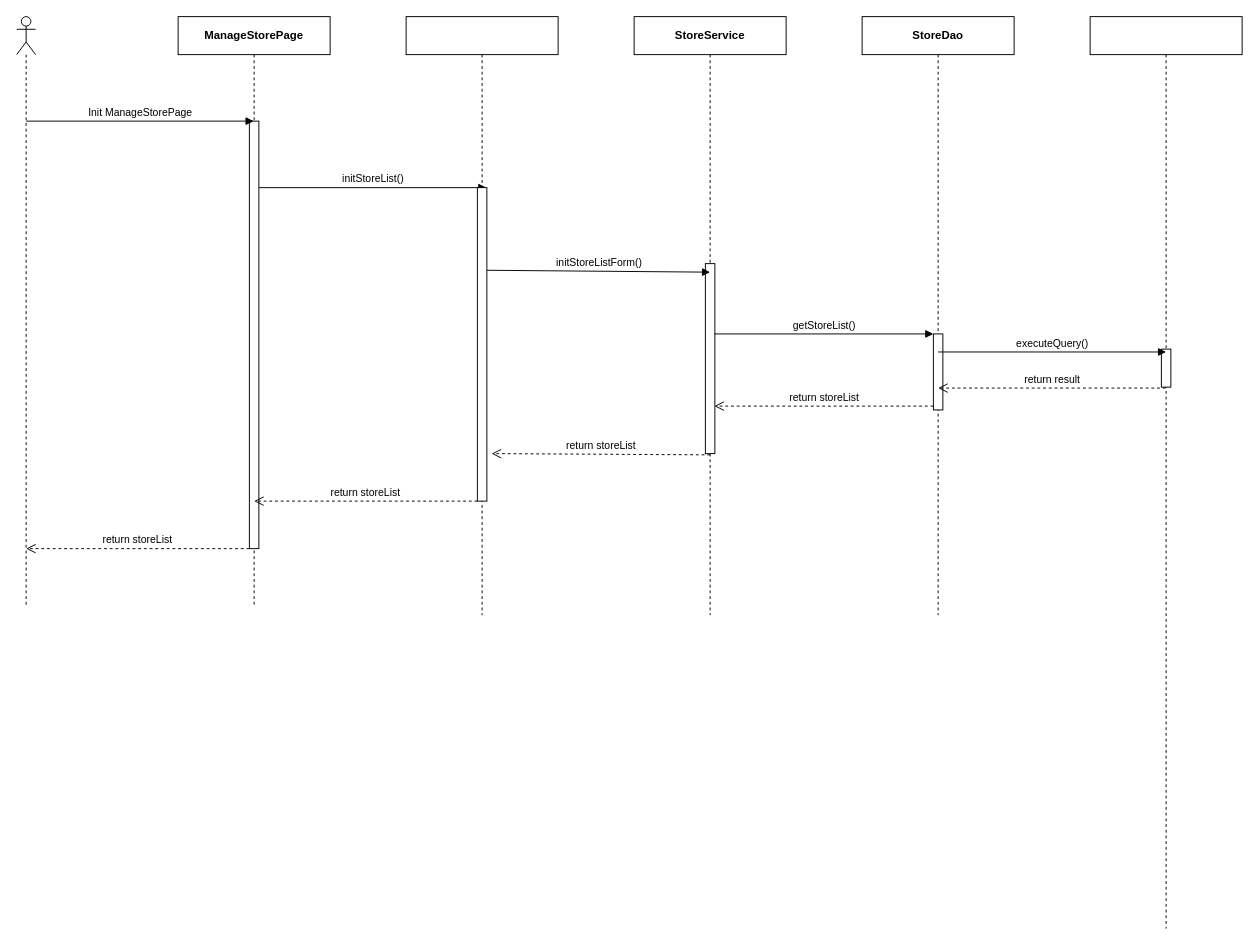
The diagram is 1259 pixels wide and 945 high, and some of its shapes have lost their labels. Each missing label, with the box of its shape:
Database: (1089, 16, 1242, 929)
StoreController: (405, 16, 558, 615)
